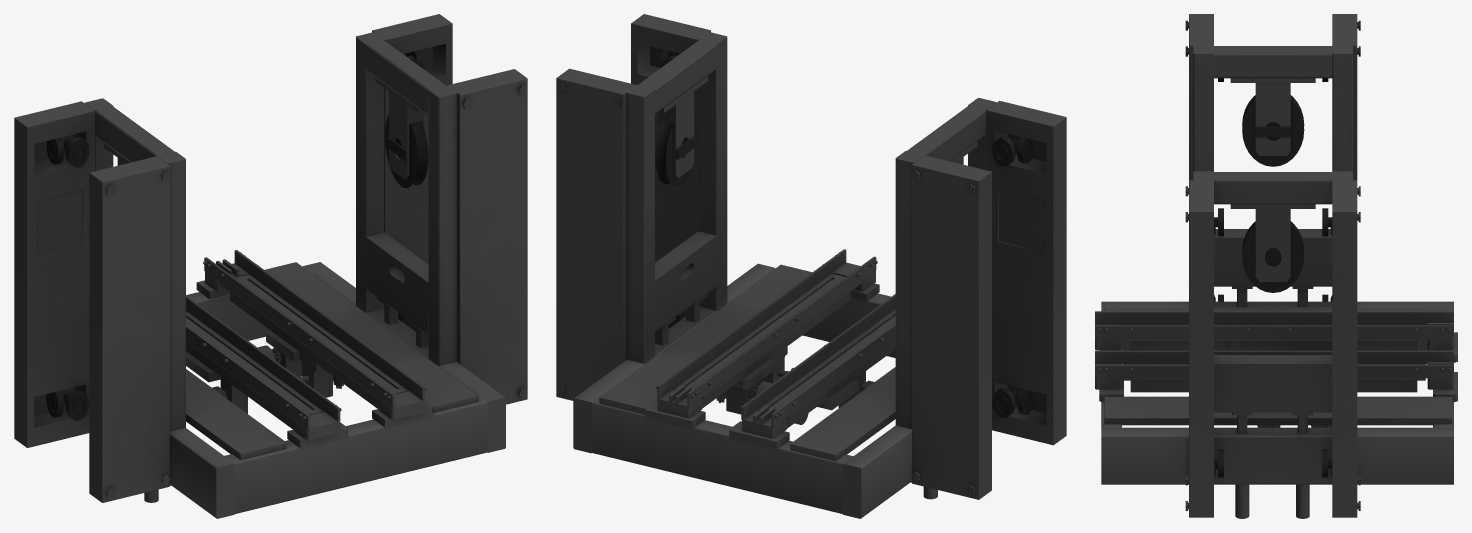
The model's file is SND_duiduoji_zaiwutai.glb.
3 views of the same model, side by side, from view 1: azimuth 30°, elevation 25°; view 2: azimuth 150°, elevation 25°; view 3: azimuth 270°, elevation 25° (orthographic). The views are drawn at different scales.
Parts seen in each view (by area): view 1: Asset3DLoader.sceneRoot; view 2: Asset3DLoader.sceneRoot; view 3: Asset3DLoader.sceneRoot.
Boxes of the visible parts, <box> form: Asset3DLoader.sceneRoot: <box>14,14,527,518</box>; Asset3DLoader.sceneRoot: <box>556,14,1066,518</box>; Asset3DLoader.sceneRoot: <box>1095,14,1457,518</box>.
Size of the model in its own units: 1677 by 1344 by 1299.
1 material, 1 textured.
